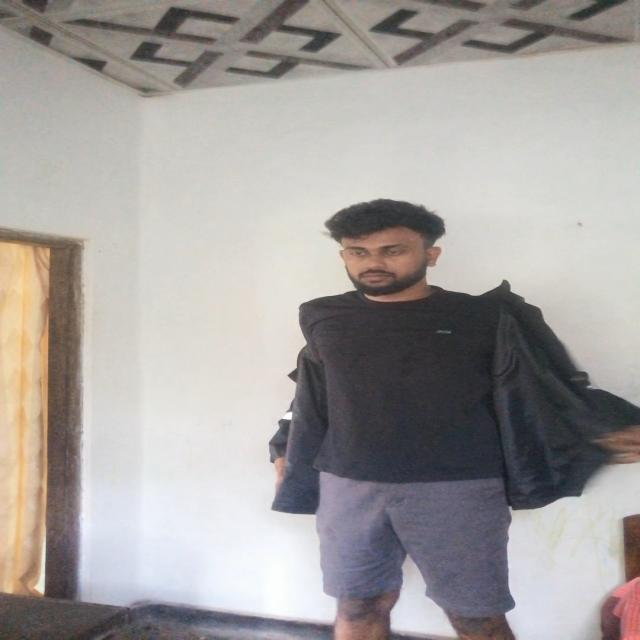Jacket_Wearer: (225, 276, 640, 538)
Person: (273, 192, 539, 638)
